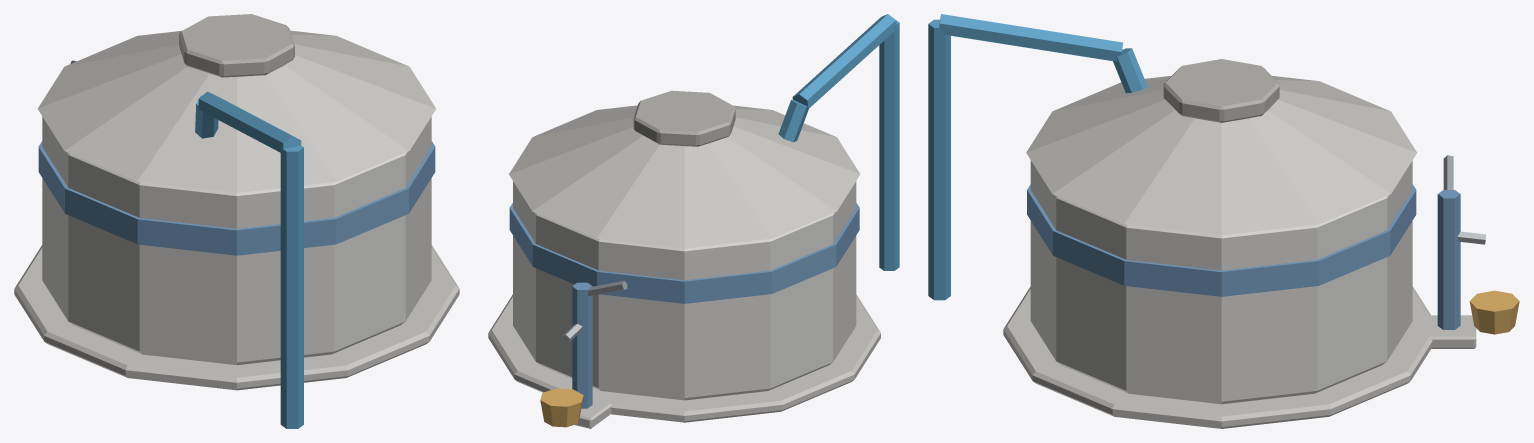
The model's file is mobiliario__cisterna.glb.
3 views of the same model, side by side, from view 1: azimuth 30°, elevation 25°; view 2: azimuth 150°, elevation 25°; view 3: azimuth 270°, elevation 25° (orthographic). The views are drawn at different scales.
Parts seen in each view (by area): view 1: mobiliario__cisterna; view 2: mobiliario__cisterna; view 3: mobiliario__cisterna.
Boxes of the visible parts, x1=… form: mobiliario__cisterna: x1=14, y1=14, x2=459, y2=428; mobiliario__cisterna: x1=488, y1=14, x2=899, y2=428; mobiliario__cisterna: x1=928, y1=14, x2=1519, y2=428.
Bounding box in the file's own units: 0.96 × 0.6847 × 1.3.
